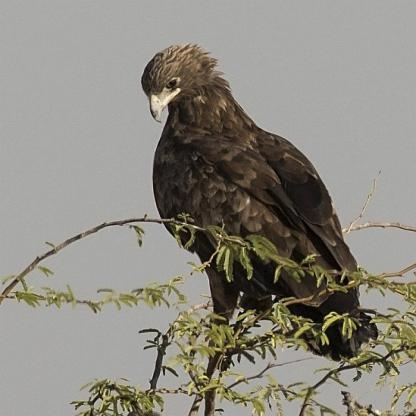Burung: (138, 43, 376, 363)
